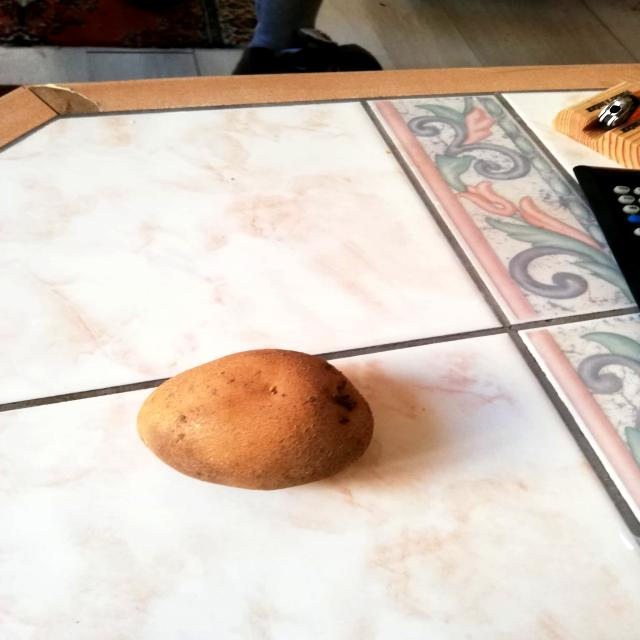potato: (125, 342, 390, 496)
